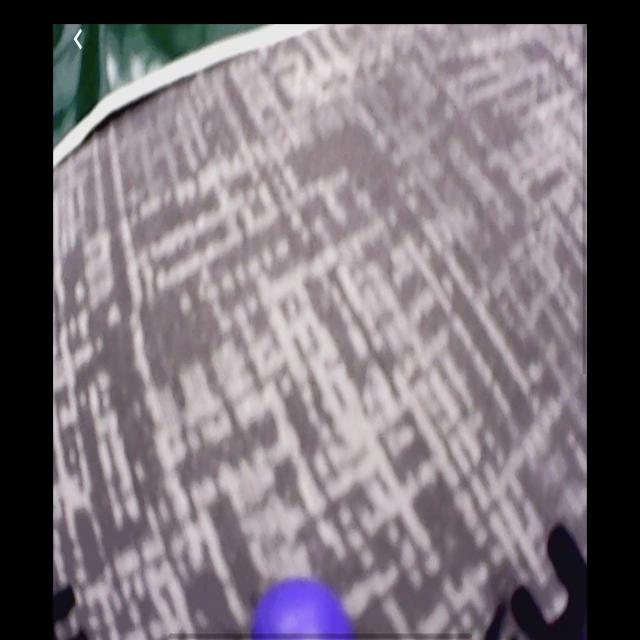ball: (249, 578, 356, 637)
